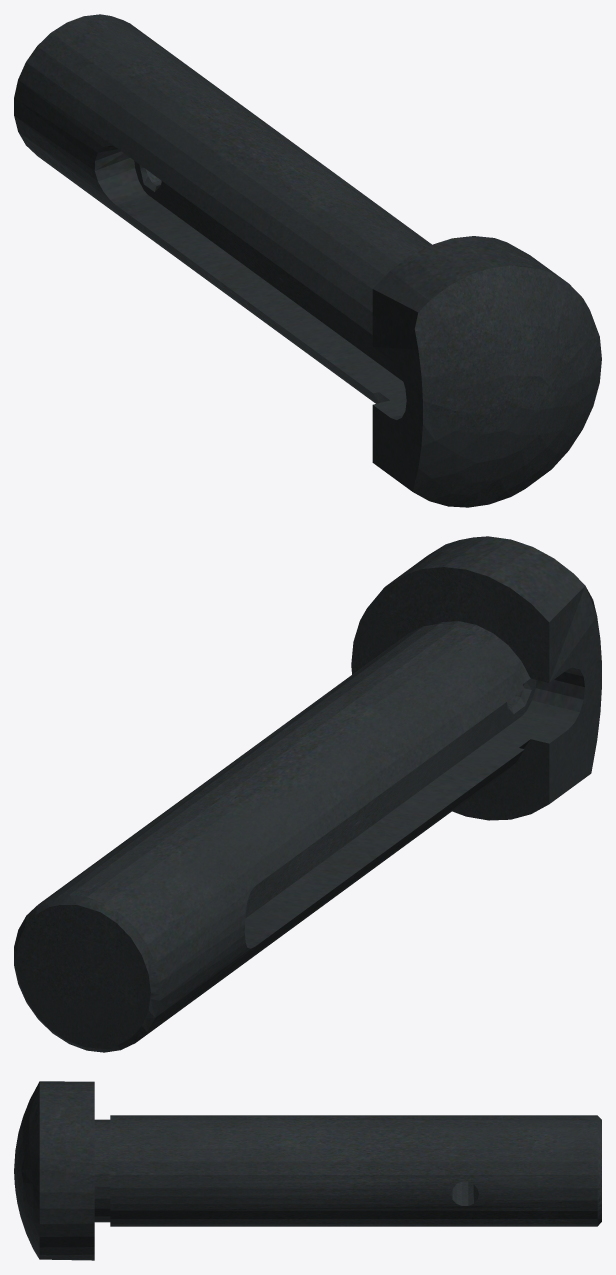
The model's file is Pivot_Pin.dae.
3 views of the same model, one above another, from view 1: azimuth 30°, elevation 25°; view 2: azimuth 150°, elevation 25°; view 3: azimuth 270°, elevation 25° (orthographic). The views are drawn at different scales.
Visible parts, largest first — view 1: Pivot_Pin; view 2: Pivot_Pin; view 3: Pivot_Pin.
Boxes of the visible parts, x1,y1,x2,y2 form: Pivot_Pin: [14, 14, 601, 507]; Pivot_Pin: [14, 536, 601, 1052]; Pivot_Pin: [14, 1081, 601, 1260].
Size of the model in its own units: 0.00831 by 0.0325 by 0.0099.
1 material, 1 textured.
